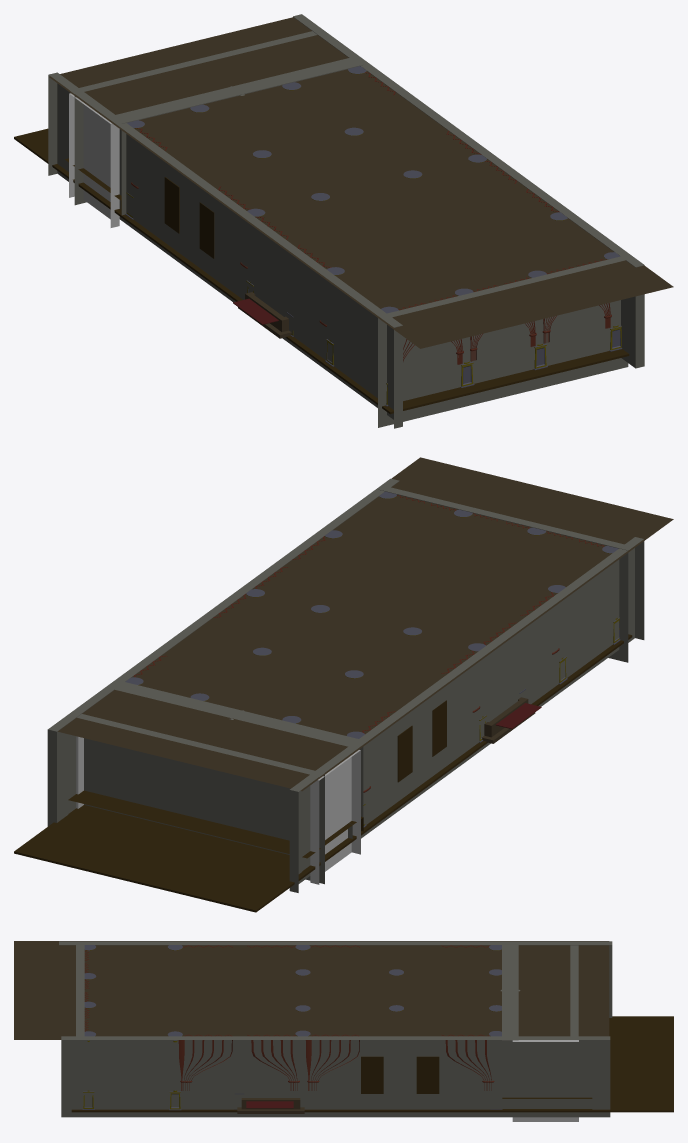
The model's file is piste_drip-or-drop.fbx.
The picture shows the model from 3 angles, top to bottom: view 1: azimuth 30°, elevation 25°; view 2: azimuth 150°, elevation 25°; view 3: azimuth 270°, elevation 25°; orthographic projection. The views are drawn at different scales.
Visible parts, largest first — view 1: pCube17, pCube1, pCube7, pCube2, sol, pCube6, arche_mur, pCube4, polySurface122, polySurface120, piste1; view 2: pCube17, pCube1, sol, pCube4, background_sol, pCube2, pCube6, arche_mur, pCube7, polySurface122, piste1, polySurface120; view 3: pCube17, pCube2, sol, pCube1, arche_mur, polySurface124, pCube7, polySurface126, pCube4, piste1, pTorus6, pTorus16 (+5 smaller).
Boxes of the visible parts, left/top/right/bottom form: pCube17: left=49, top=17, right=673, bottom=348; pCube1: left=48, top=72, right=402, bottom=428; pCube7: left=378, top=254, right=632, bottom=427; pCube2: left=293, top=14, right=644, bottom=368; sol: left=14, top=128, right=629, bottom=414; pCube6: left=69, top=93, right=119, bottom=227; arche_mur: left=111, top=57, right=362, bottom=215; pCube4: left=70, top=31, right=317, bottom=205; polySurface122: left=164, top=177, right=179, bottom=233; polySurface120: left=199, top=202, right=214, bottom=258; piste1: left=238, top=292, right=291, bottom=338; pCube17: left=58, top=457, right=673, bottom=791; pCube1: left=289, top=537, right=644, bottom=892; sol: left=14, top=634, right=632, bottom=912; pCube4: left=77, top=714, right=324, bottom=884; background_sol: left=68, top=790, right=363, bottom=872; pCube2: left=47, top=478, right=399, bottom=826; pCube6: left=310, top=750, right=360, bottom=884; arche_mur: left=111, top=681, right=363, bottom=838; pCube7: left=378, top=485, right=632, bottom=662; polySurface122: left=397, top=725, right=412, bottom=782; piste1: left=482, top=697, right=535, bottom=743; polySurface120: left=432, top=700, right=446, bottom=756; pCube17: left=14, top=941, right=609, bottom=1039; pCube2: left=61, top=1036, right=610, bottom=1117; sol: left=71, top=1016, right=673, bottom=1112; pCube1: left=59, top=941, right=612, bottom=1017; arche_mur: left=500, top=942, right=520, bottom=1079; polySurface124: left=416, top=1056, right=439, bottom=1093; pCube7: left=76, top=941, right=84, bottom=1038; polySurface126: left=361, top=1056, right=383, bottom=1093; pCube4: left=570, top=945, right=578, bottom=1036; piste1: left=237, top=1098, right=304, bottom=1113; pTorus6: left=178, top=1034, right=232, bottom=1090; pTorus16: left=305, top=1034, right=359, bottom=1090.
Size of the model in its own units: 30.74 by 11.83 by 78.6.
